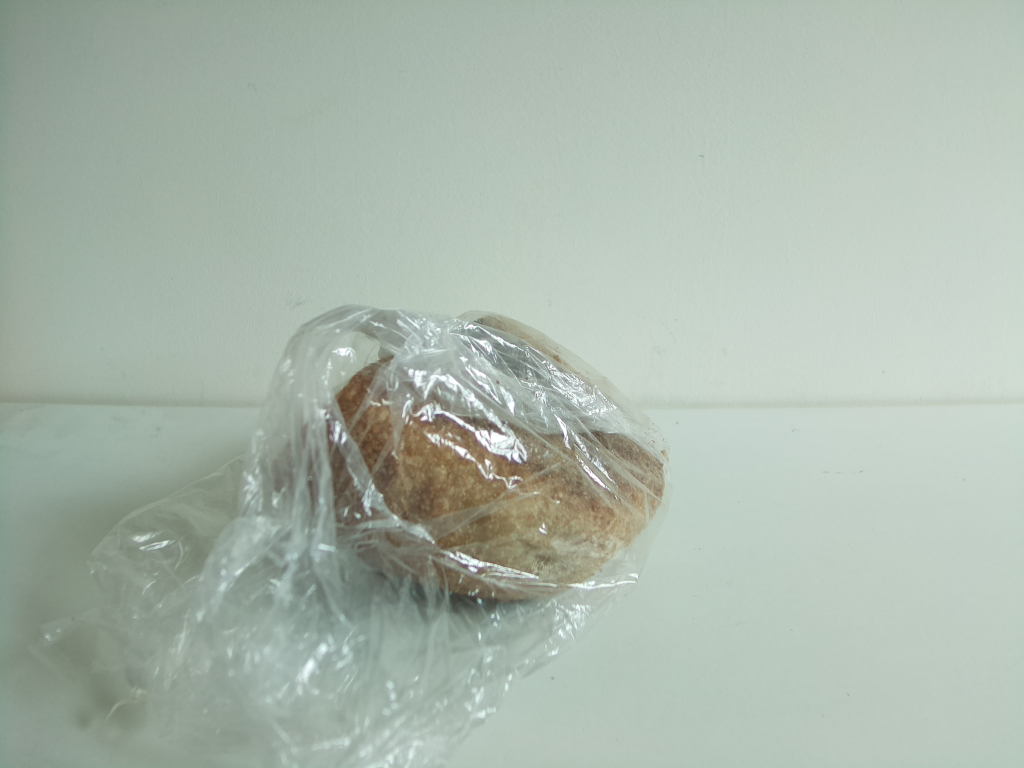bread: (270, 342, 668, 608)
